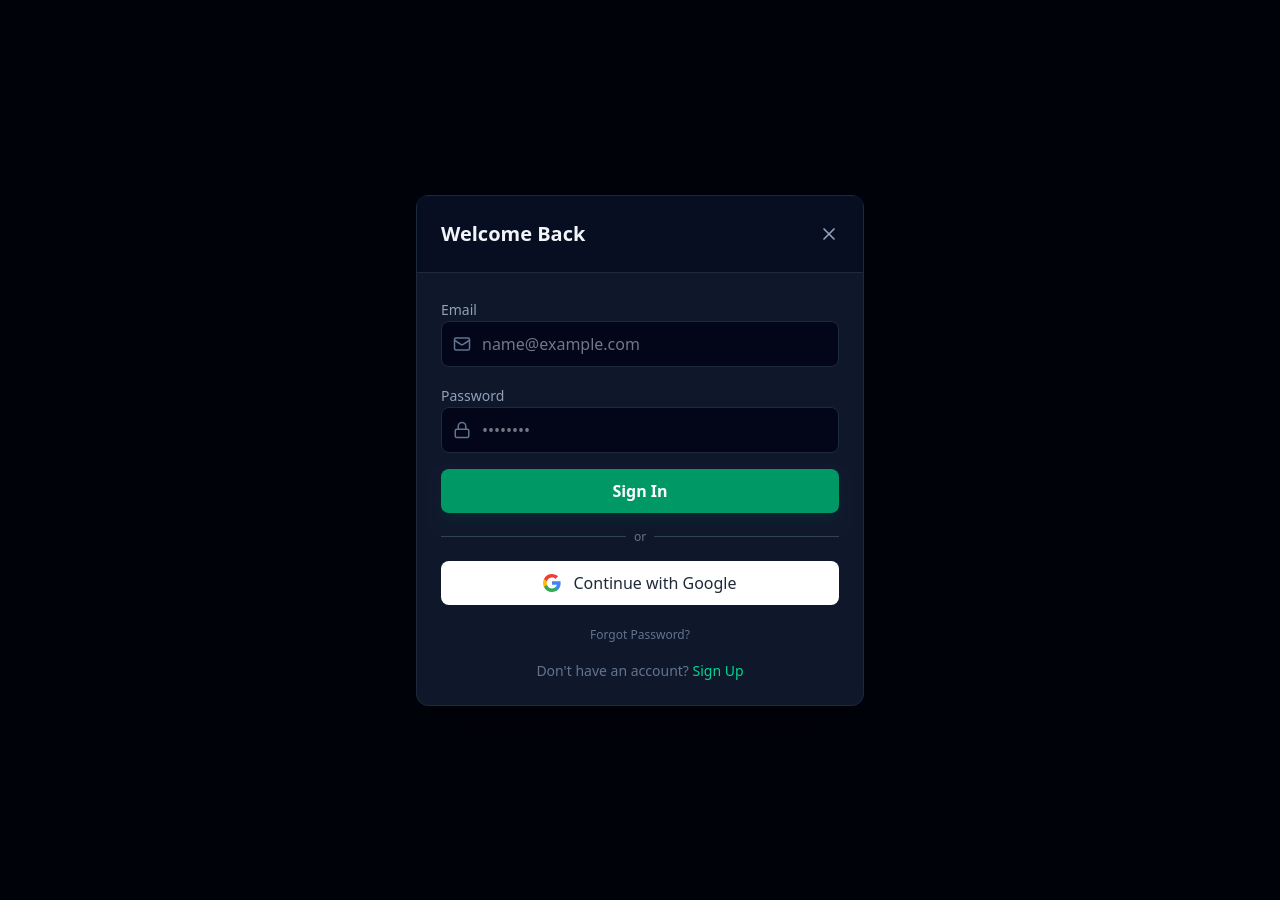
Test: AuthModal › sends password reset email
Click the button "Forgot Password?".
click(640, 634)  # box [590,626,690,642]
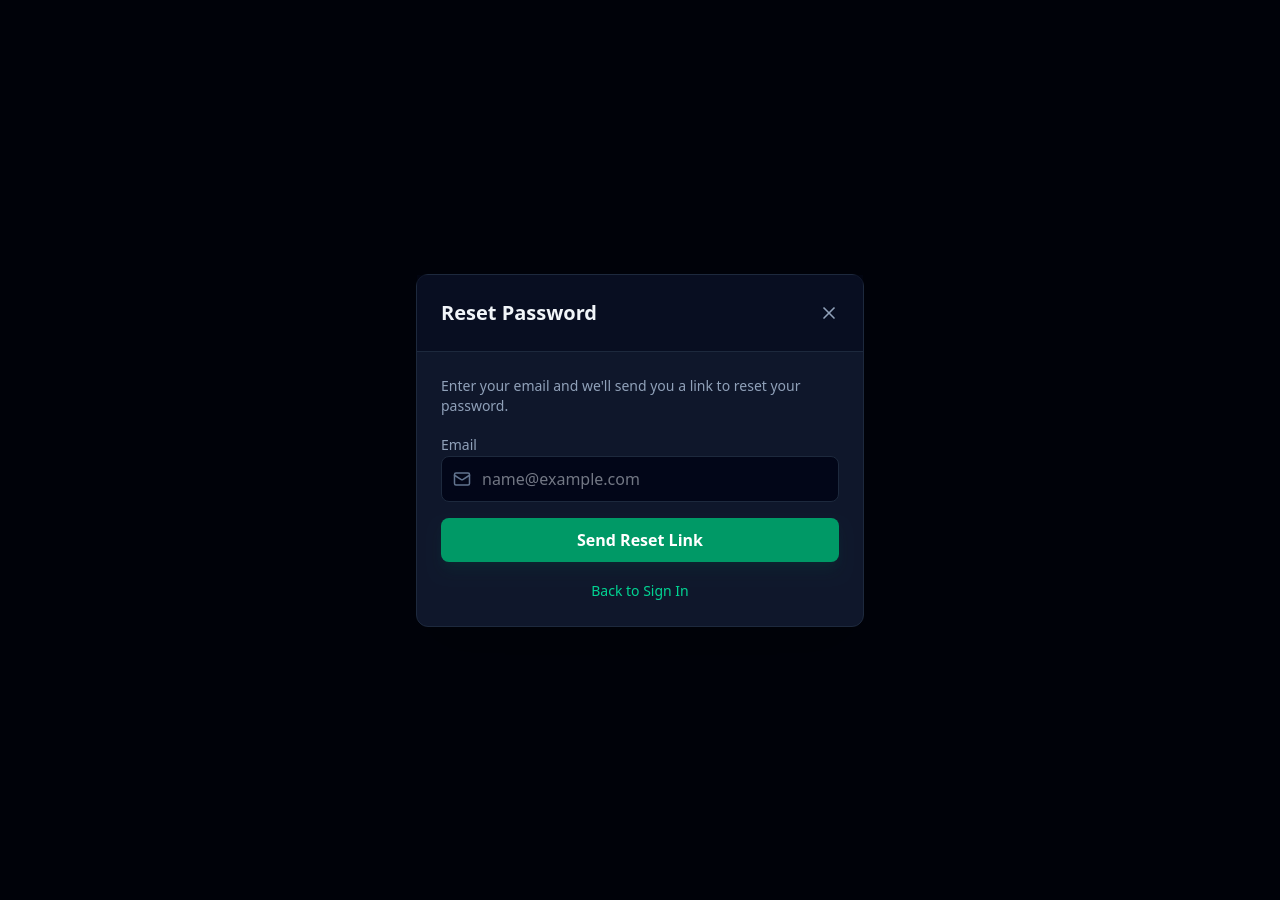
Type "test@example.com" into the field with placeholder "name@example.com".
click(640, 478); type("test@example.com")  # box [441,456,839,502]
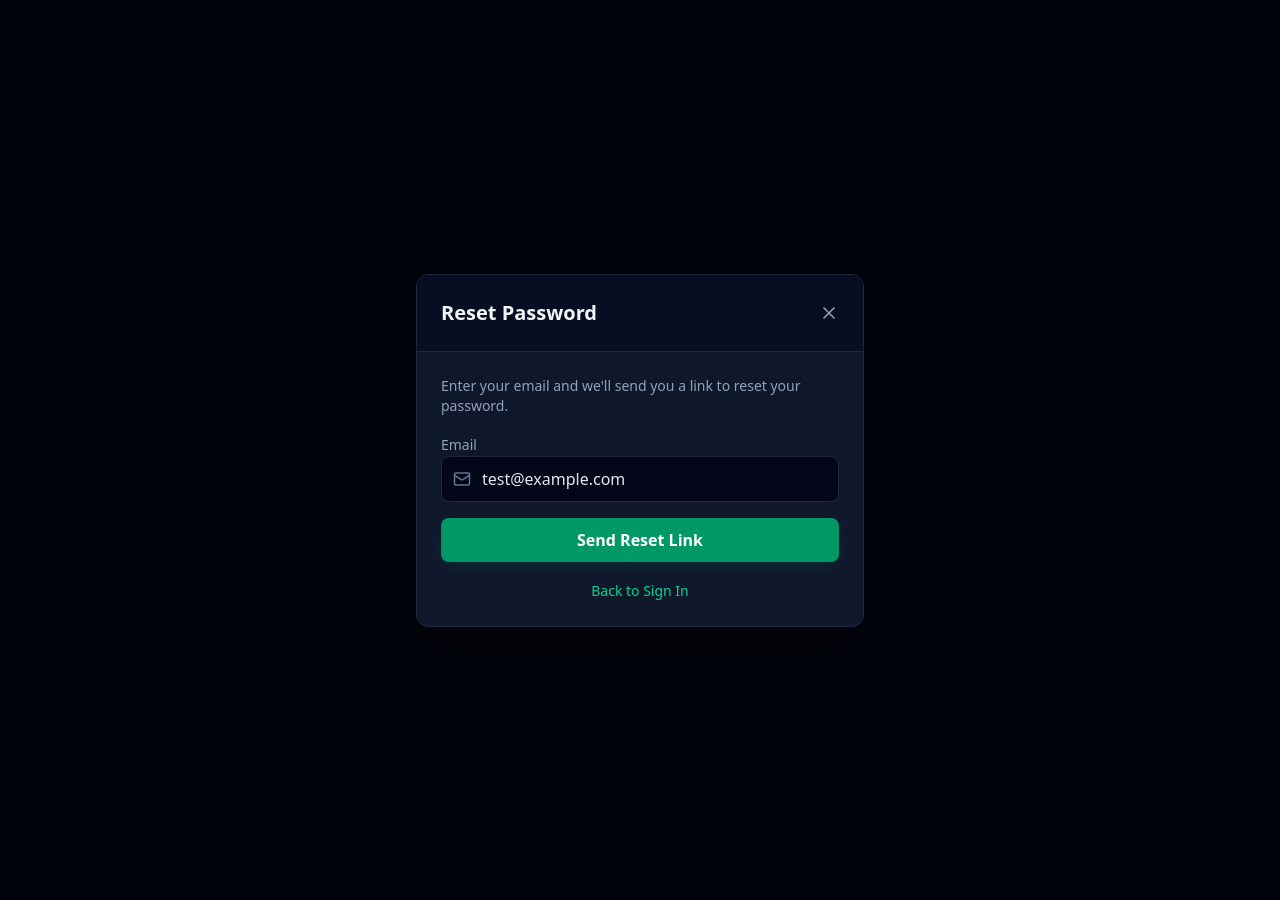
Click the button "Send Reset Link".
click(640, 540)  # box [441,518,839,562]
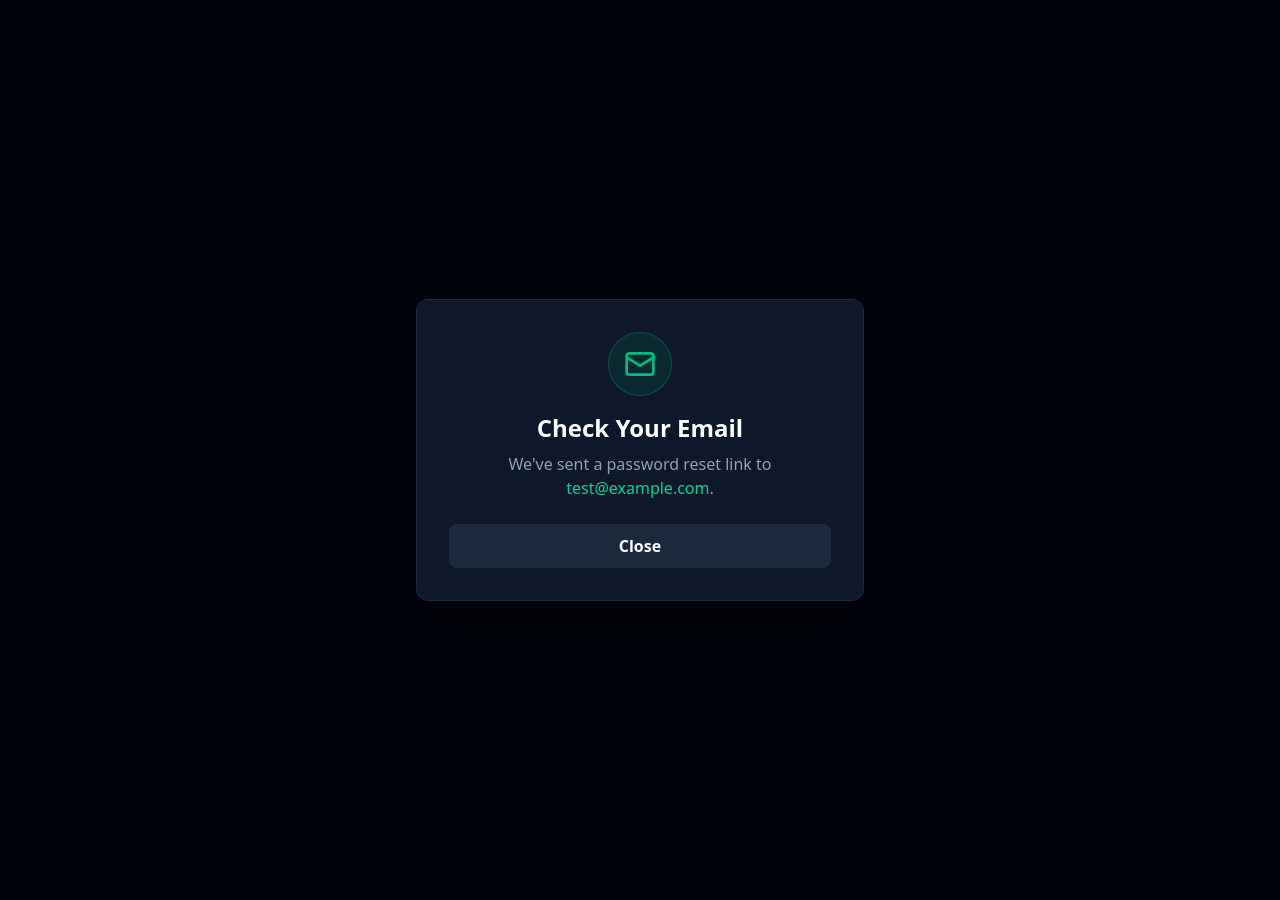
Now the heading "Check Your Email" is shown, box [537,411,743,444]
